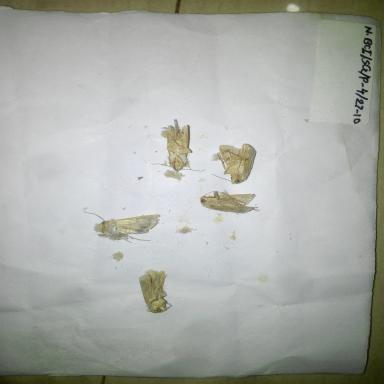abw: (145, 113, 207, 176), (78, 205, 166, 246), (195, 187, 274, 222), (208, 137, 262, 187), (134, 264, 178, 320)
